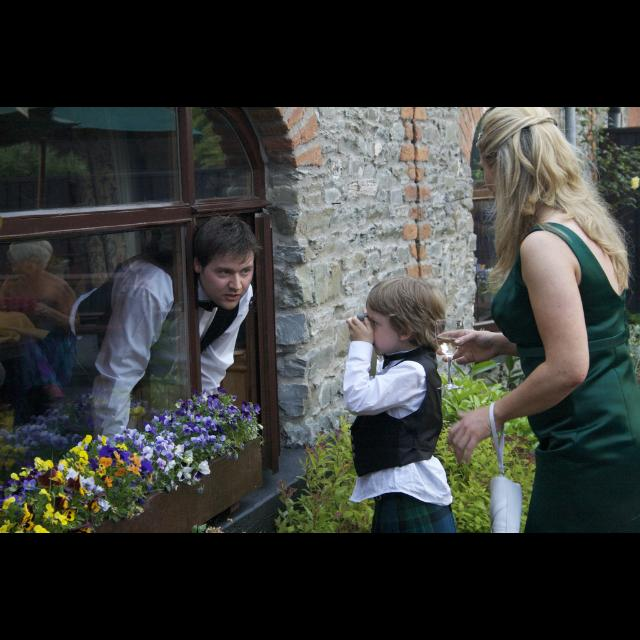Flower: (1, 388, 263, 532), (194, 459, 212, 476), (82, 432, 91, 442)
